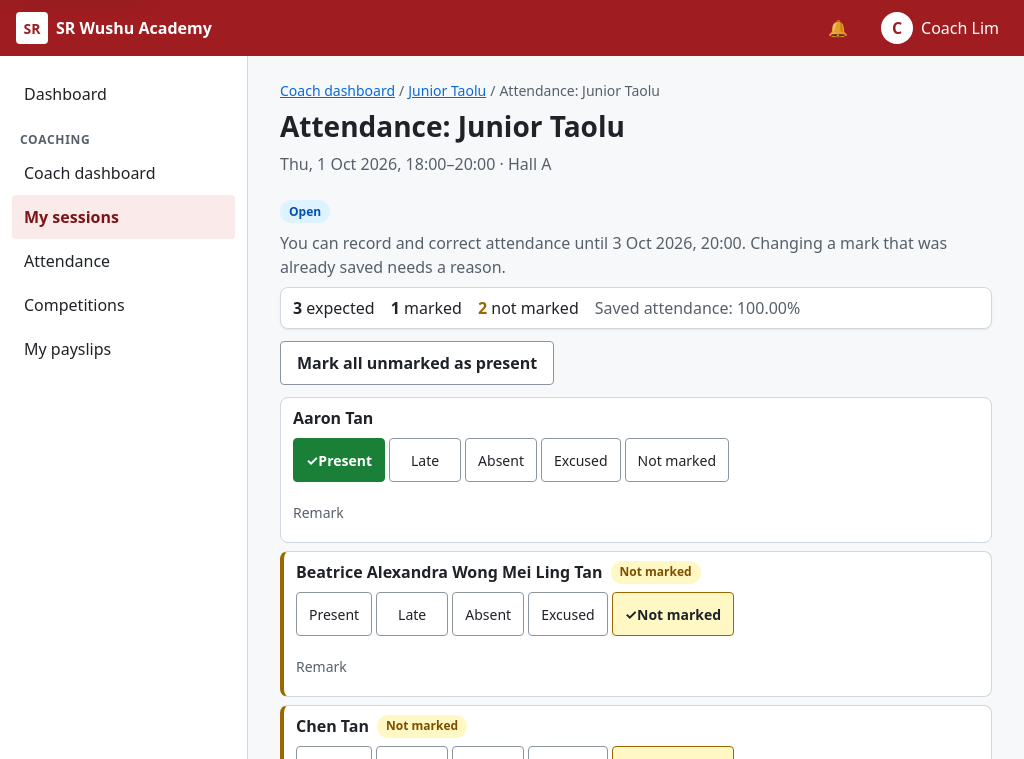
Test case: taking attendance › shows every expected student with counts, and 'mark all' only fills the unmarked
The width and height of the screenshot is (1024, 759).
expect the element named "Attendance counts" shows "3 expected": met, box [280,287,992,329]
expect the element named "Attendance counts" shows "1 marked": met, box [280,287,992,329]
Click the button "Mark all unmarked as present": (417, 363) [280,341,554,385]
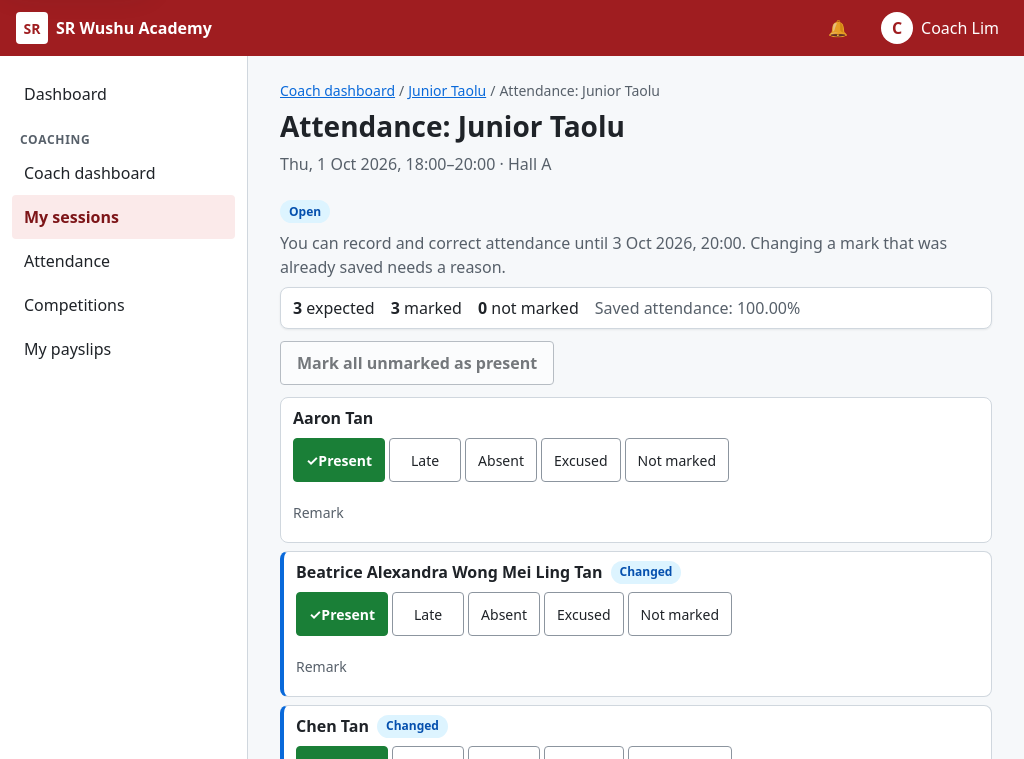
expect the element named "Attendance counts" shows "3 marked": met, box [280,287,992,329]
expect the element named "Attendance counts" shows "0 not marked": met, box [280,287,992,329]
expect the radio button labelled "Present" below "Beatrice Alexandra Wong Mei Ling Tan" is checked: met, box [296,592,388,636]
